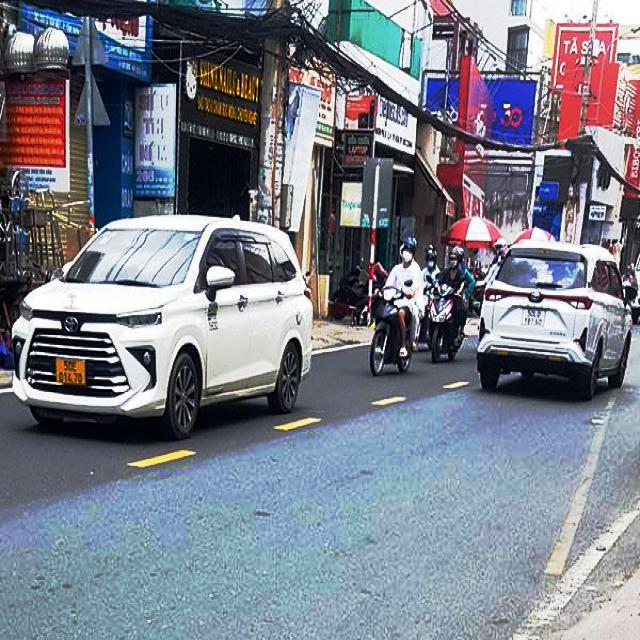license_plate: (57, 357, 88, 386)
